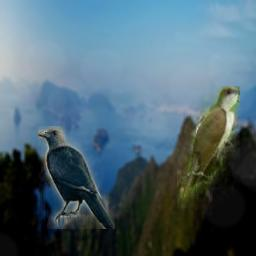Crow: (38, 126, 115, 229)
Cuckoo: (177, 86, 240, 216)
